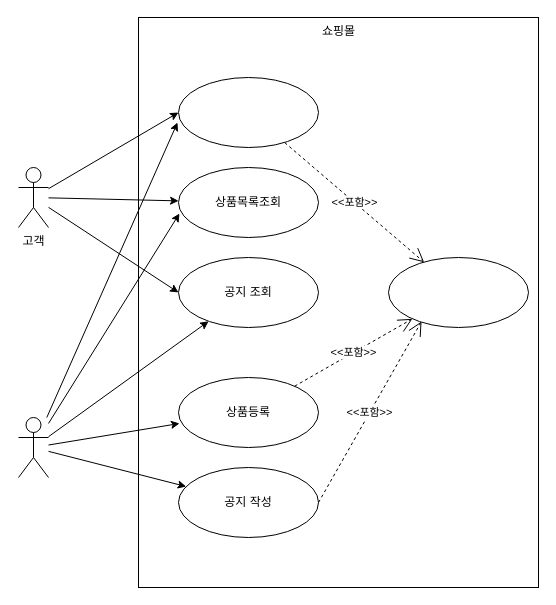
The diagram is 556 pixels wide and 605 high, and some of its shapes have lost their labels. The centre of each missing label's shape, as x and y in pixels:
"관리자" belongs at point 33,447.
"로그인" belongs at point 458,292.
"상품 코멘트 작성" belongs at point 248,112.
